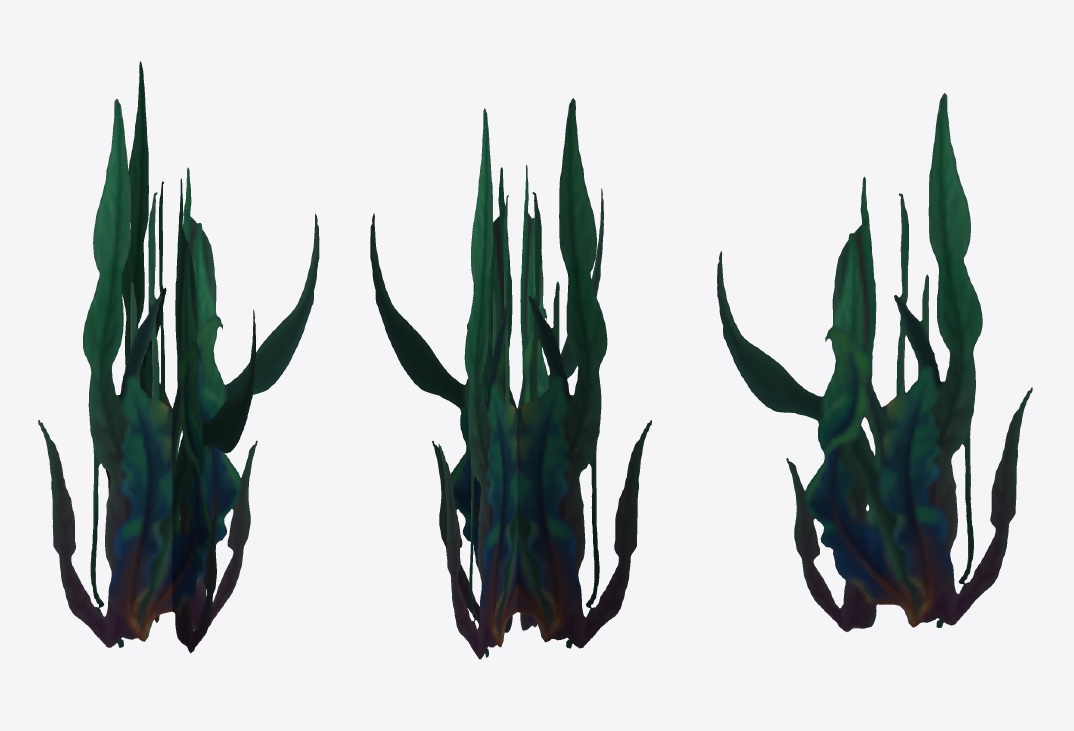
File: Battle05_Other_012.FBX
3 views of the same model, side by side, from view 1: azimuth 30°, elevation 25°; view 2: azimuth 150°, elevation 25°; view 3: azimuth 270°, elevation 25° (orthographic). The views are drawn at different scales.
Visible parts, largest first — view 1: Battle05_Other_012; view 2: Battle05_Other_012; view 3: Battle05_Other_012.
Part boxes in pixels (x1,y1,x2,y2): Battle05_Other_012: (38,61,319,653); Battle05_Other_012: (370,98,651,659); Battle05_Other_012: (717,93,1032,631).
Bounding box in the file's own units: 5.21 × 8.96 × 5.21.
